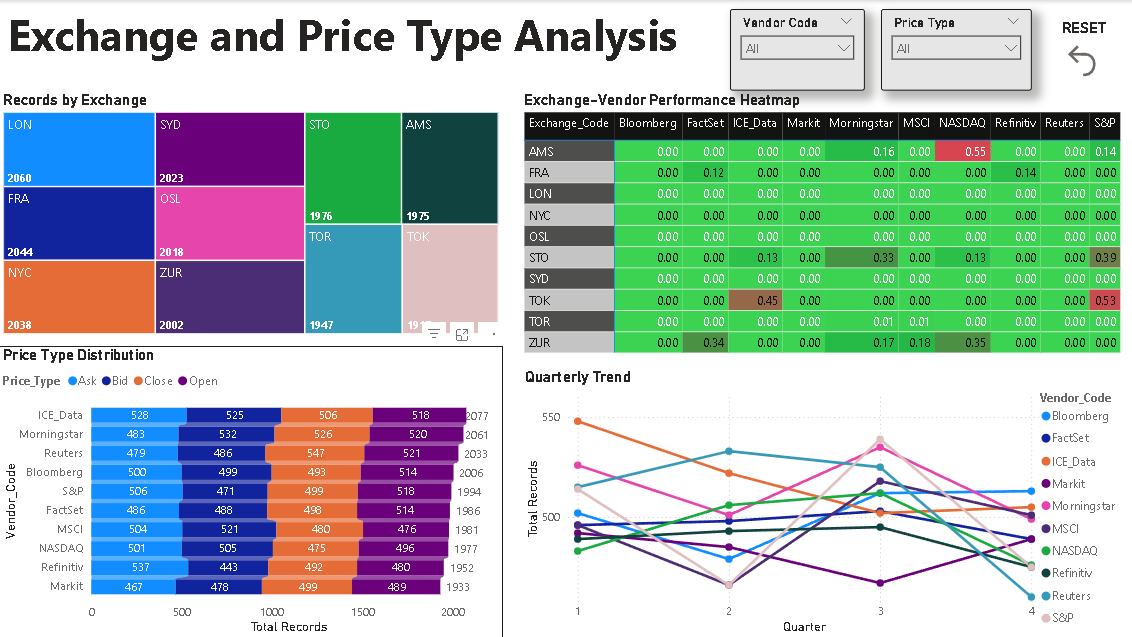

The dashboard page shown, as its layout file describes it:
{"tool":"powerbi","page":{"name":"Exchange and Price Type Analysis","canvas":[1280,720],"ordinal":3},"visuals":[{"type":"treemap","title":"Records by Exchange","fields":{"Group":["Fact_Price_Details.Exchange_Code"],"Values":["DAX Measures.Total Records"]},"box":[0,102.9,568,278.8],"z":0},{"type":"barChart","title":"Price Type Distribution","fields":{"Category":["Dim_Vendor.Vendor_Code"],"Y":["DAX Measures.Total Records"],"Series":["Fact_Price_Details.Price_Type"]},"box":[0,390,568,330.3],"z":1000},{"type":"pivotTable","title":"Exchange-Vendor Performance Heatmap","fields":{"Rows":["Fact_Price_Details.Exchange_Code"],"Columns":["Dim_Vendor.Vendor_Code"],"Values":["DAX Measures.Avg Price Variation %"]},"box":[587.5,102.9,692.5,303.5],"z":2000},{"type":"lineChart","title":"Quarterly Trend","fields":{"Category":["Dim_Date.Quarter"],"Y":["DAX Measures.Total Records"],"Series":["Dim_Vendor.Vendor_Code"]},"box":[588.4,415.3,691.6,304.4],"z":3000},{"type":"textbox","box":[0,0,775.2,79.8],"z":4000},{"type":"slicer","fields":{"Values":["Fact_Price_Details.Vendor_Code"]},"box":[824.4,10.1,152.2,92.5],"z":5000},{"type":"slicer","fields":{"Values":["Fact_Price_Details.Price_Type"]},"box":[994.7,10.1,170.3,92.5],"z":6000},{"type":"actionButton","title":"RESET","box":[1177.4,19.2,89.1,83.5],"z":6001}]}

Visuals, with their boxes in screenshot pixels (x1, y1, x2, y2), scaled from the page's 1280x720 canvas onto the 1132x637 screenshot:
"Records by Exchange" treemap: <box>0,91,502,338</box>
"Price Type Distribution" barChart: <box>0,345,502,636</box>
"Exchange-Vendor Performance Heatmap" pivotTable: <box>520,91,1131,360</box>
"Quarterly Trend" lineChart: <box>520,367,1131,636</box>
textbox: <box>0,0,686,71</box>
slicer - Fact_Price_Details.Vendor_Code: <box>729,9,864,91</box>
slicer - Fact_Price_Details.Price_Type: <box>880,9,1030,91</box>
"RESET" actionButton: <box>1041,17,1120,91</box>
